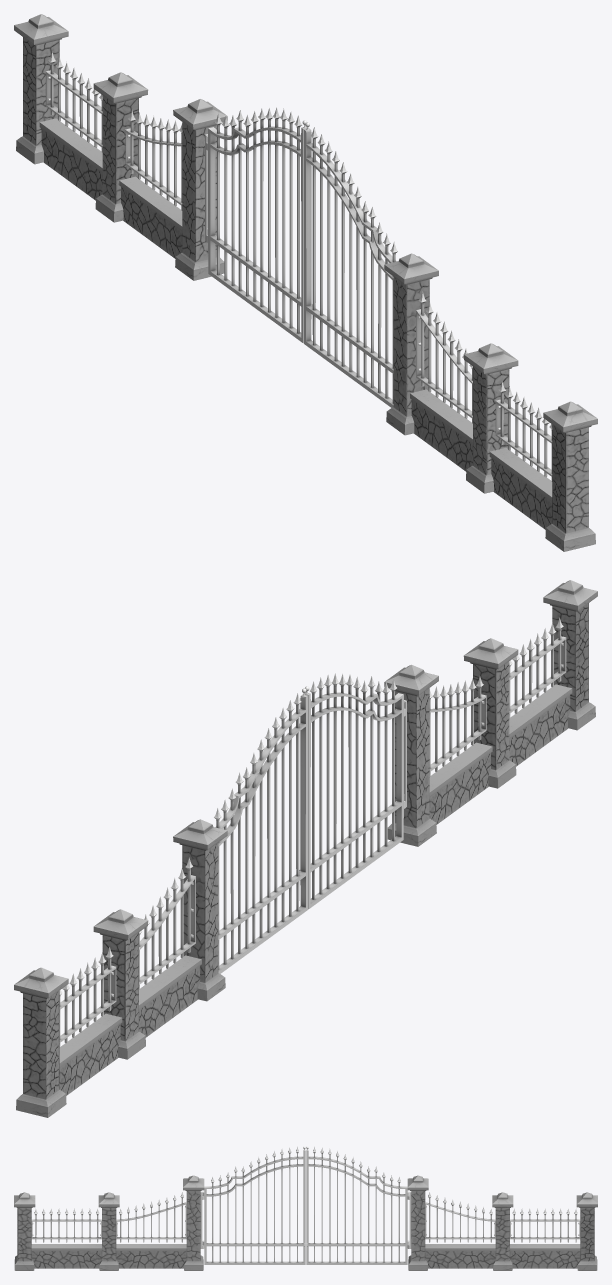
Rendered from fence_baking.glb.
The picture shows the model from 3 angles, top to bottom: view 1: azimuth 30°, elevation 25°; view 2: azimuth 150°, elevation 25°; view 3: azimuth 270°, elevation 25°; orthographic projection. The views are drawn at different scales.
Visible parts, largest first — view 1: Fense1:polySurface3556, Fense1:polySurface3549, Fense1:polySurface3574, Fense1:polySurface3562, Fense1:polySurface3522, Fense1:polySurface3566, Fense1:polySurface3552, Fense1:polySurface3551, Fense1:polySurface3570, Fense1:polySurface3532, Fense1:polySurface3464, Fense1:polySurface3590 (+16 smaller); view 2: Fense1:polySurface3549, Fense1:polySurface3556, Fense1:polySurface3551, Fense1:polySurface3522, Fense1:polySurface3562, Fense1:polySurface3532, Fense1:polySurface3570, Fense1:polySurface3574, Fense1:polySurface3552, Fense1:polySurface3566, Fense1:polySurface3590, Fense1:polySurface3464 (+16 smaller); view 3: Fense1:polySurface3549, Fense1:polySurface3556, Fense1:polySurface3583, Fense1:polySurface3536, Fense1:polySurface3567, Fense1:polySurface3529, Fense1:polySurface3532, Fense1:polySurface3566, Fense1:polySurface3522, Fense1:polySurface3562, Fense1:polySurface3464, Fense1:polySurface3590 (+20 smaller).
Boxes of the visible parts, bbox=[...] form: Fense1:polySurface3556: bbox=[304, 127, 397, 407]; Fense1:polySurface3549: bbox=[208, 107, 303, 343]; Fense1:polySurface3574: bbox=[552, 424, 588, 533]; Fense1:polySurface3562: bbox=[393, 277, 429, 416]; Fense1:polySurface3522: bbox=[182, 122, 216, 262]; Fense1:polySurface3566: bbox=[416, 291, 472, 423]; Fense1:polySurface3552: bbox=[102, 95, 138, 204]; Fense1:polySurface3551: bbox=[23, 37, 59, 145]; Fense1:polySurface3570: bbox=[473, 366, 509, 475]; Fense1:polySurface3532: bbox=[125, 110, 182, 210]; Fense1:polySurface3464: bbox=[45, 51, 102, 152]; Fense1:polySurface3590: bbox=[495, 381, 552, 481]; Fense1:polySurface3549: bbox=[214, 693, 307, 973]; Fense1:polySurface3556: bbox=[308, 673, 403, 909]; Fense1:polySurface3551: bbox=[23, 990, 59, 1099]; Fense1:polySurface3522: bbox=[182, 843, 218, 982]; Fense1:polySurface3562: bbox=[395, 688, 429, 828]; Fense1:polySurface3532: bbox=[139, 857, 195, 989]; Fense1:polySurface3570: bbox=[473, 661, 509, 770]; Fense1:polySurface3574: bbox=[552, 603, 588, 711]; Fense1:polySurface3552: bbox=[102, 932, 138, 1041]; Fense1:polySurface3566: bbox=[429, 676, 486, 776]; Fense1:polySurface3590: bbox=[509, 617, 566, 718]; Fense1:polySurface3464: bbox=[59, 947, 116, 1047]; Fense1:polySurface3549: bbox=[306, 1146, 407, 1264]; Fense1:polySurface3556: bbox=[204, 1146, 305, 1264]; Fense1:polySurface3583: bbox=[510, 1251, 580, 1268]; Fense1:polySurface3536: bbox=[31, 1251, 101, 1268]; Fense1:polySurface3567: bbox=[116, 1251, 186, 1268]; Fense1:polySurface3529: bbox=[425, 1251, 495, 1268]; Fense1:polySurface3532: bbox=[425, 1192, 495, 1242]; Fense1:polySurface3566: bbox=[116, 1192, 186, 1242]; Fense1:polySurface3522: bbox=[411, 1191, 425, 1261]; Fense1:polySurface3562: bbox=[186, 1191, 200, 1261]; Fense1:polySurface3464: bbox=[510, 1208, 580, 1242]; Fense1:polySurface3590: bbox=[31, 1208, 101, 1242].
Bounding box in the file's own units: 3.47 × 21.8 × 95.33.
Materials: 2 (2 with a texture image).
